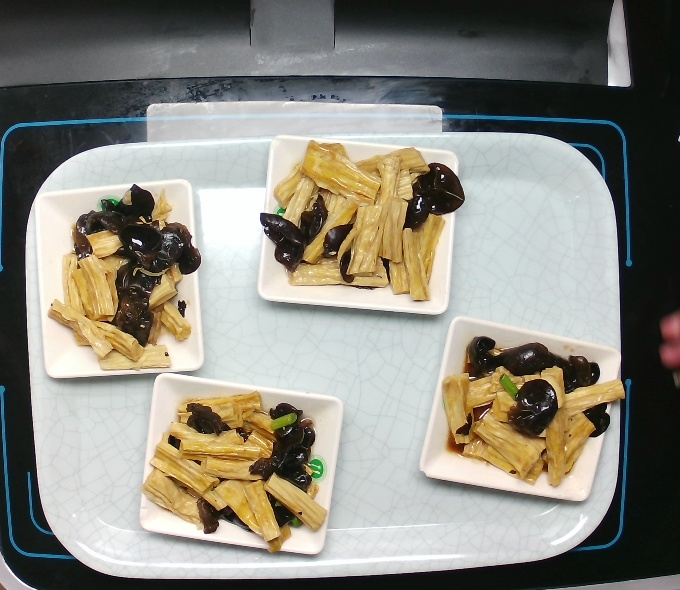wcq-MuErFuZhu: (262, 135, 457, 303), (136, 381, 338, 539), (432, 330, 630, 491), (43, 187, 211, 375)
